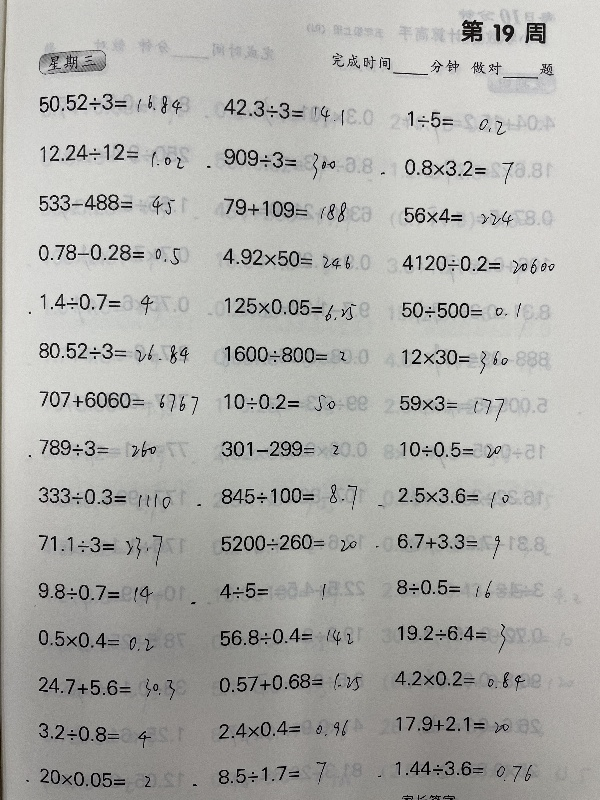equation: (35, 387, 201, 420), (35, 530, 166, 569), (216, 479, 361, 514), (34, 189, 181, 221), (400, 102, 511, 143), (36, 138, 187, 168), (219, 145, 339, 182), (216, 529, 359, 560), (393, 619, 509, 656), (35, 432, 165, 465), (34, 483, 175, 513), (34, 88, 184, 116), (399, 154, 517, 189), (391, 390, 509, 425), (34, 338, 191, 364), (34, 672, 177, 700), (217, 575, 331, 610), (398, 250, 557, 275), (214, 668, 364, 694), (33, 239, 182, 265), (391, 756, 534, 783), (34, 720, 152, 752), (220, 293, 358, 320), (37, 289, 157, 320), (390, 664, 527, 691), (218, 195, 349, 223), (397, 344, 511, 376), (393, 529, 502, 562), (214, 717, 352, 743), (215, 623, 355, 648), (218, 436, 343, 464), (220, 389, 345, 417), (218, 245, 353, 270), (403, 202, 515, 232), (220, 97, 347, 122), (391, 572, 500, 601), (219, 341, 348, 365), (215, 760, 329, 787), (393, 482, 511, 508), (33, 579, 155, 604), (35, 766, 156, 791), (33, 627, 156, 651), (398, 298, 525, 321), (391, 711, 512, 734), (396, 436, 504, 460)
